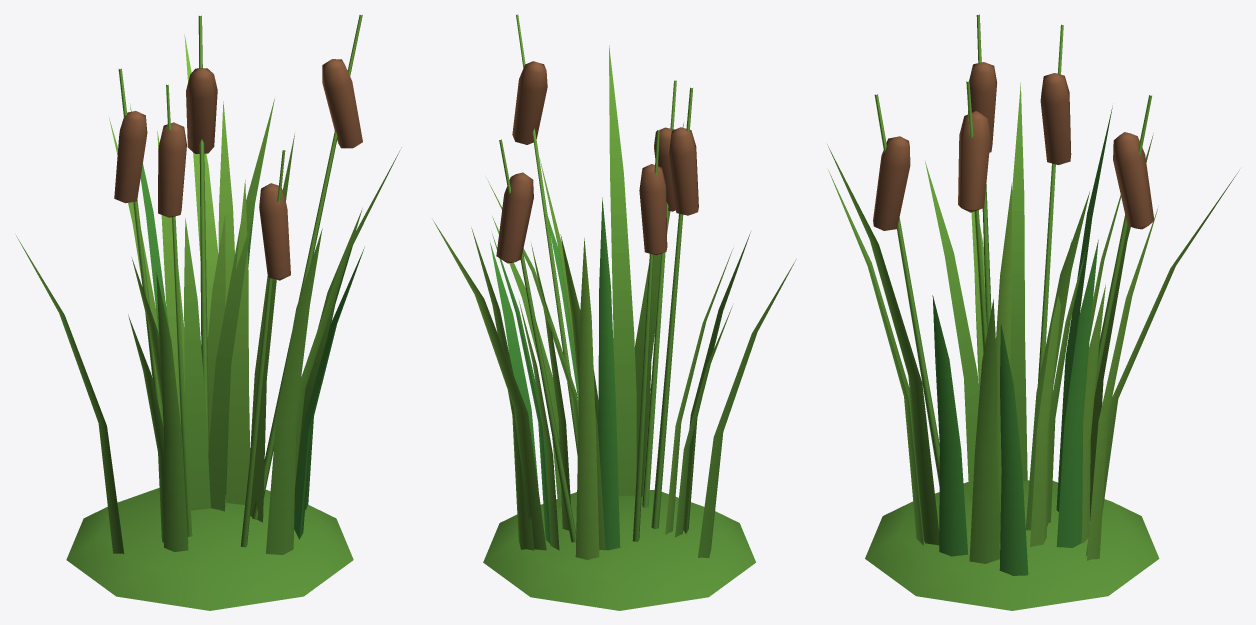
Rendered from reeds.glb.
3 views of the same model, side by side, from view 1: azimuth 30°, elevation 25°; view 2: azimuth 150°, elevation 25°; view 3: azimuth 270°, elevation 25° (orthographic). The views are drawn at different scales.
Parts seen in each view (by area): view 1: reeds Moss, reeds Lime leaf, reeds Bark, reeds Grass; view 2: reeds Moss, reeds Lime leaf, reeds Bark, reeds Grass; view 3: reeds Moss, reeds Grass, reeds Lime leaf, reeds Bark.
Part boxes in pixels (x1,y1,x2,y2): reeds Moss: [16, 15, 401, 610]; reeds Lime leaf: [109, 33, 294, 543]; reeds Bark: [114, 59, 362, 280]; reeds Grass: [129, 103, 364, 539]; reeds Moss: [483, 14, 796, 610]; reeds Lime leaf: [432, 158, 733, 559]; reeds Bark: [496, 61, 698, 263]; reeds Grass: [490, 197, 620, 550]; reeds Moss: [827, 14, 1159, 610]; reeds Grass: [932, 105, 1112, 575]; reeds Lime leaf: [971, 133, 1239, 560]; reeds Bark: [873, 62, 1153, 230].
Bounding box in the file's own units: 1.17 × 1.73 × 1.22.
Materials: 4 (4 with a texture image).
